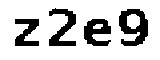2: (47, 4, 77, 48)
9: (116, 4, 149, 49)
e: (80, 16, 115, 48)
z: (12, 16, 42, 50)
